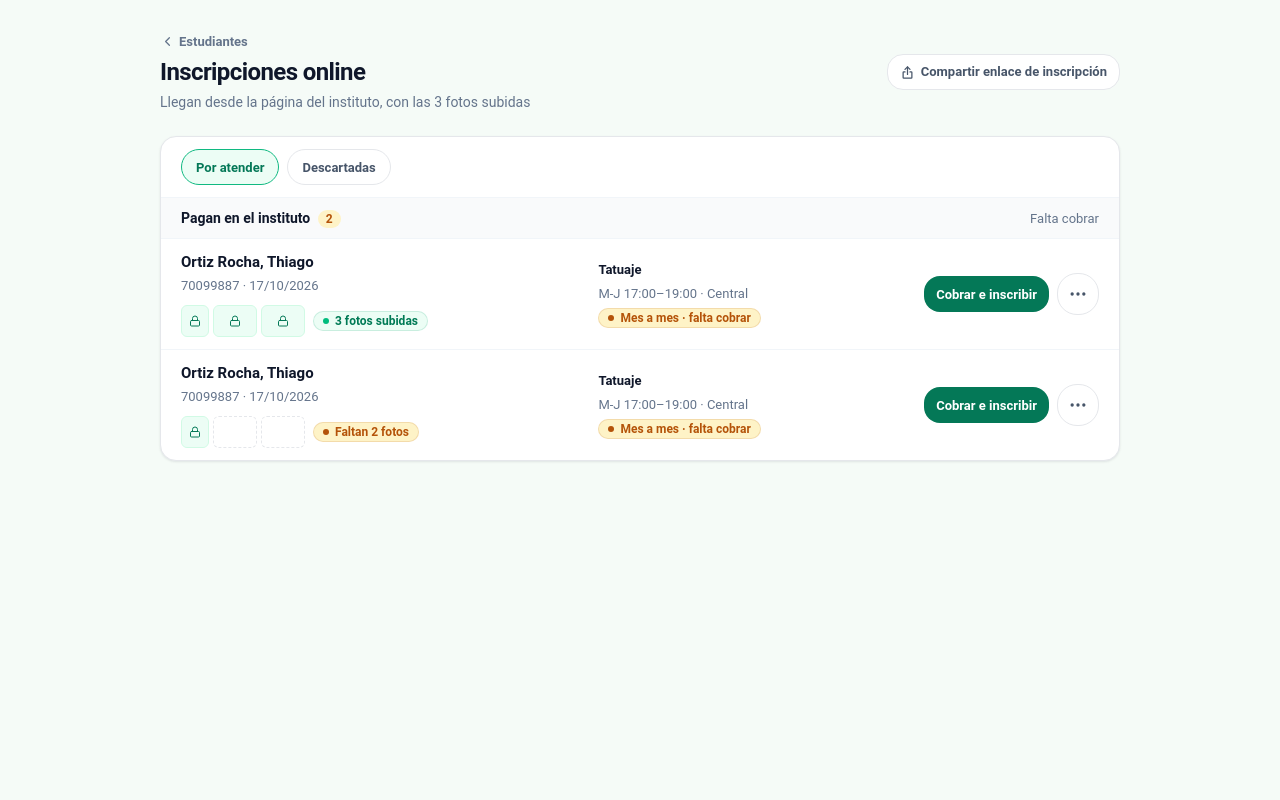
Scenario: E20 · Inscripciones online › Cobrar e inscribir abre la inscripción; descartar va en el menú
The image size is (1280, 800).
Click the 1st button "Cobrar e inscribir": [987, 294] box left=924, top=276, right=1049, bottom=312
(page scrolled)
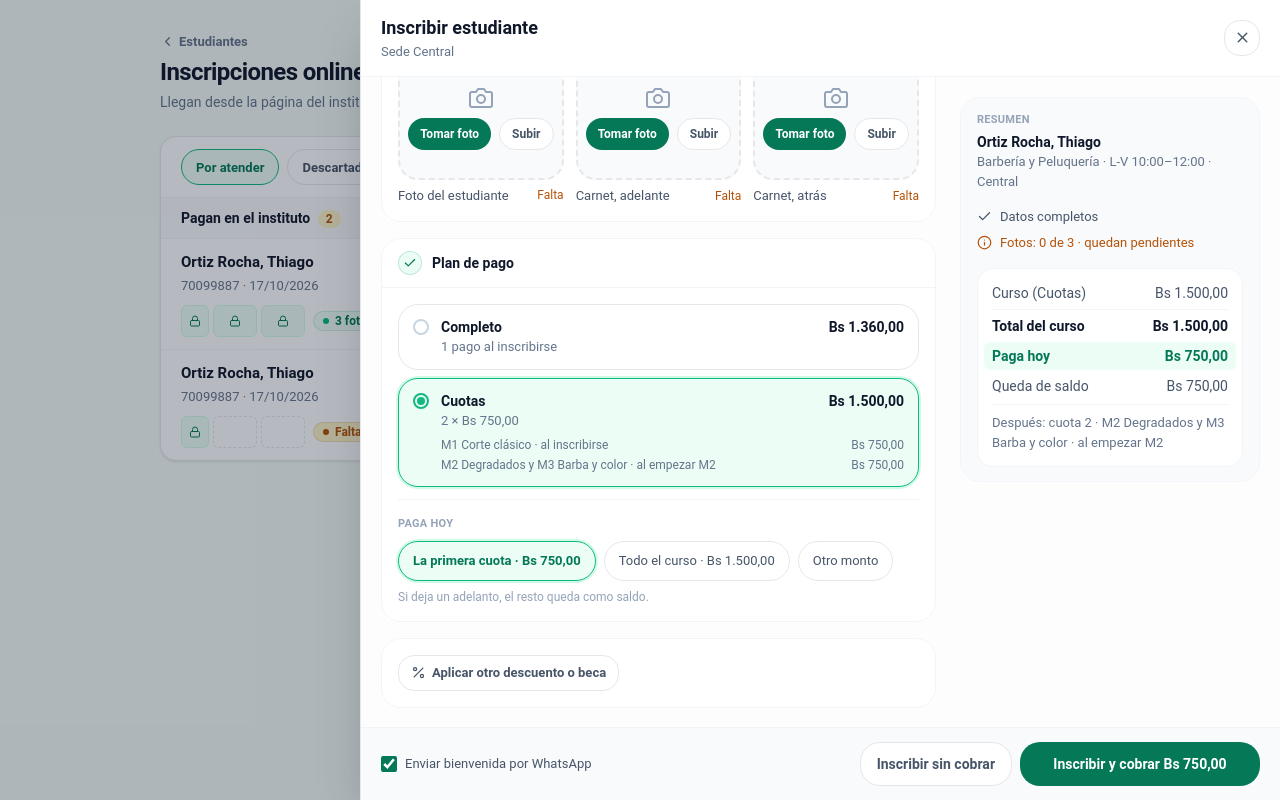
Now the dialog "Inscribir estudiante" is shown
